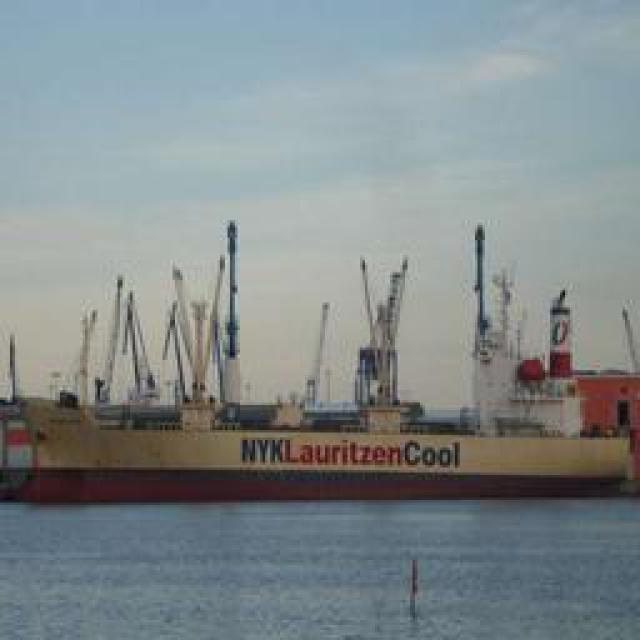Ship: (22, 215, 640, 515)
